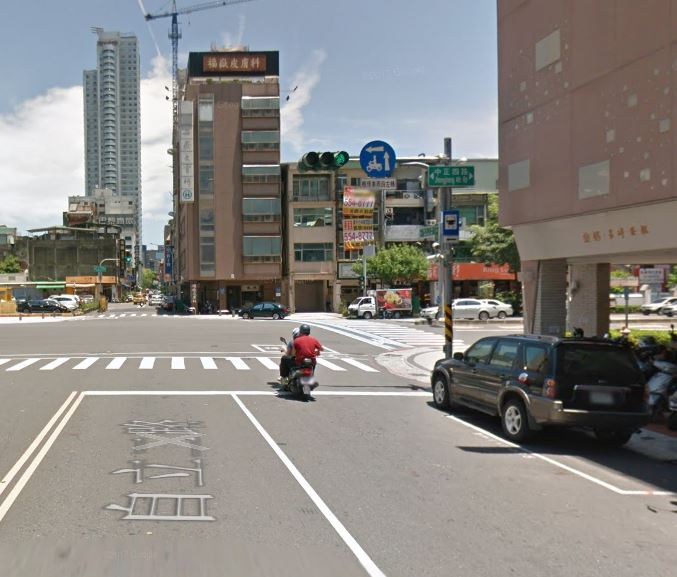Traffic_light_green: (299, 149, 350, 169)
car: (429, 330, 653, 456)
motorcycle: (277, 334, 320, 400)
